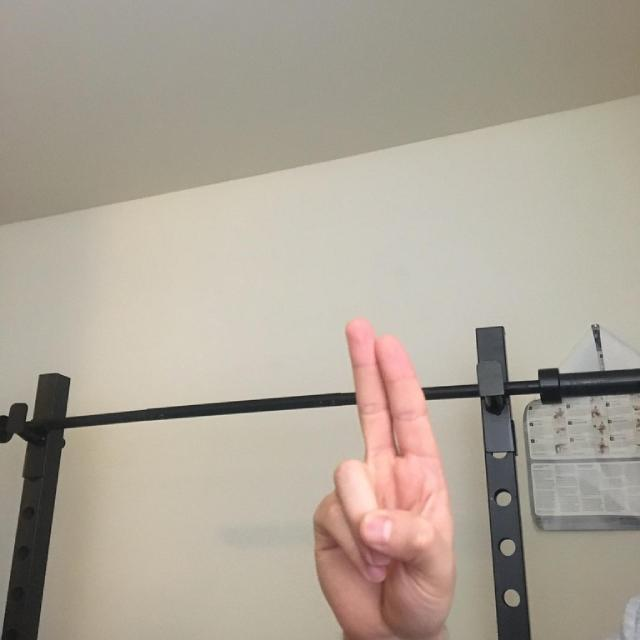U: (290, 285, 509, 640)
